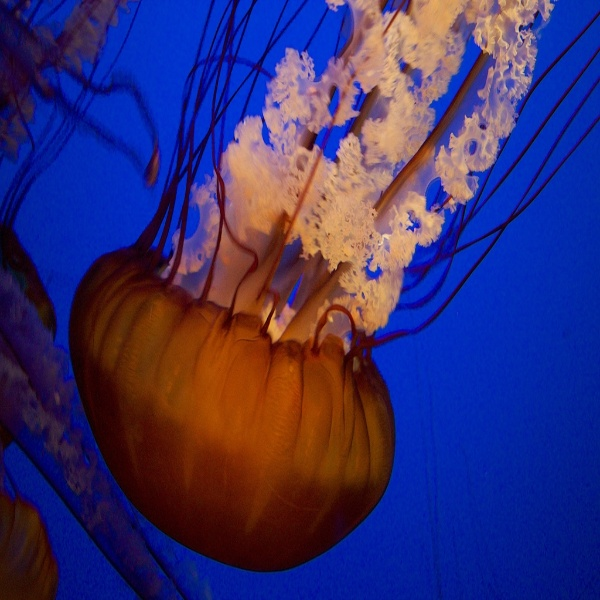Jellyfish: (63, 0, 599, 572)
